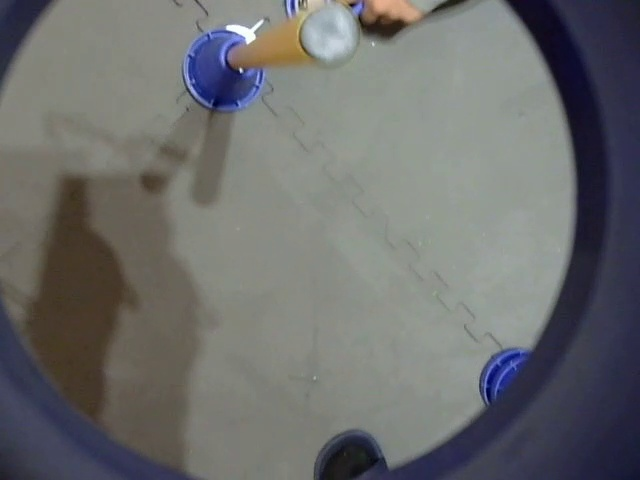tip: (293, 7, 367, 64)
